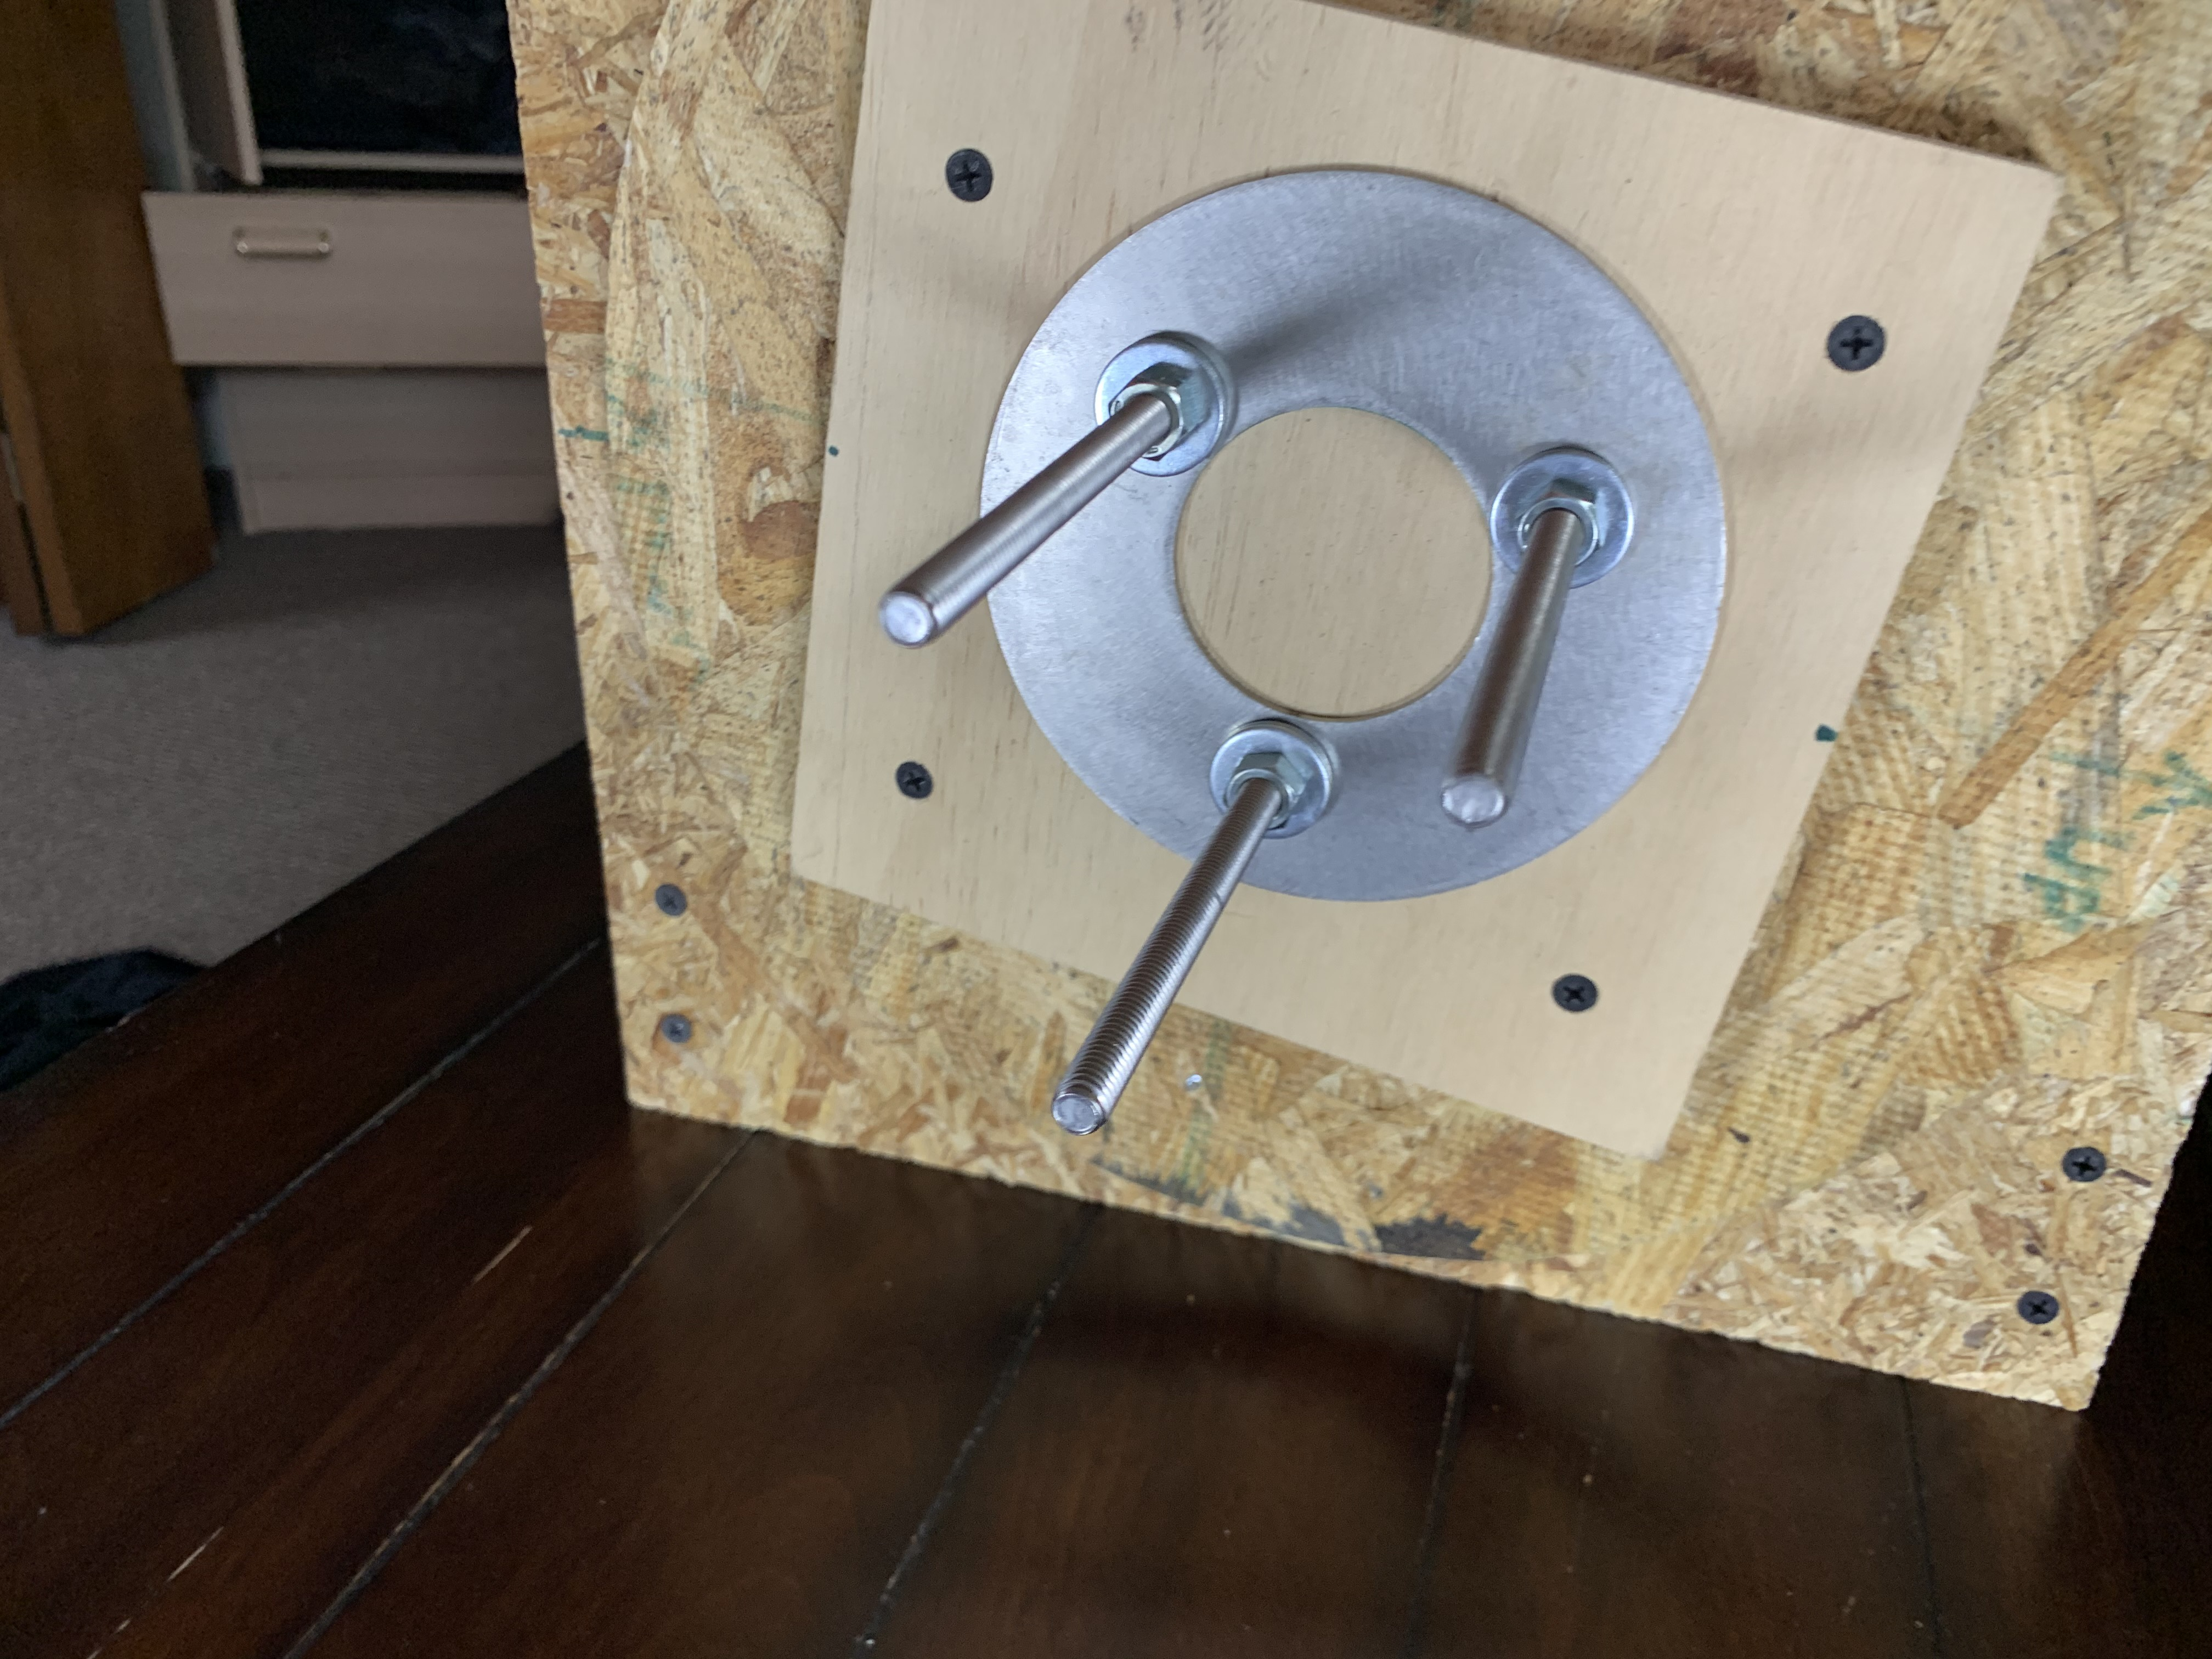bolt: (1487, 446, 1630, 592), (1097, 336, 1228, 476), (1207, 720, 1336, 842)
